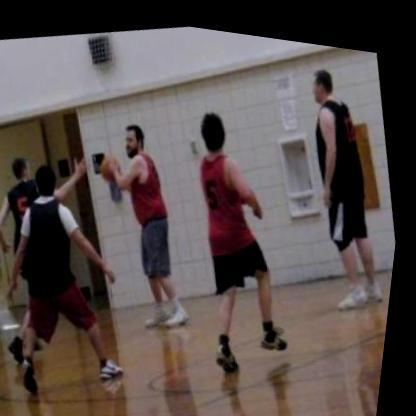basketball: (95, 142, 128, 180)
